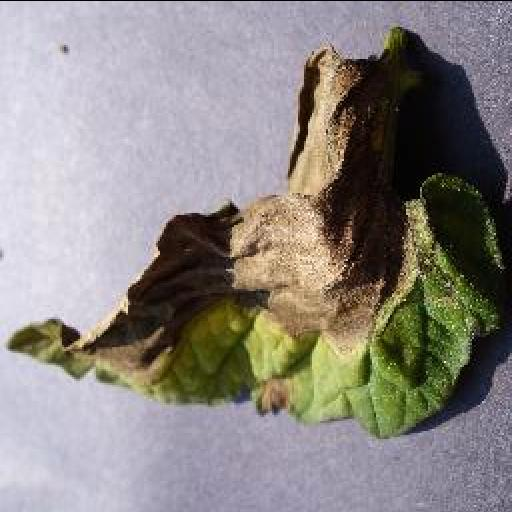disease_tomato: (2, 26, 512, 438)
